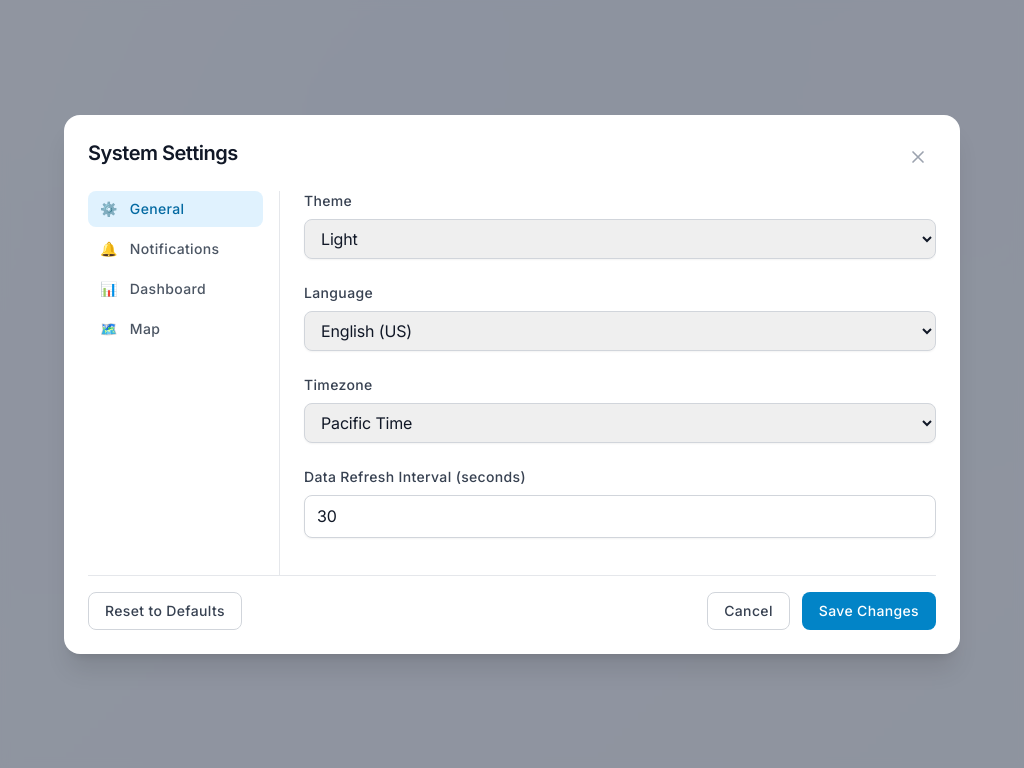
Test case: SettingsPanel › switches to notifications tab when clicked
Click the button "🔔 Notifications": point(176, 248) [88,230,263,266]
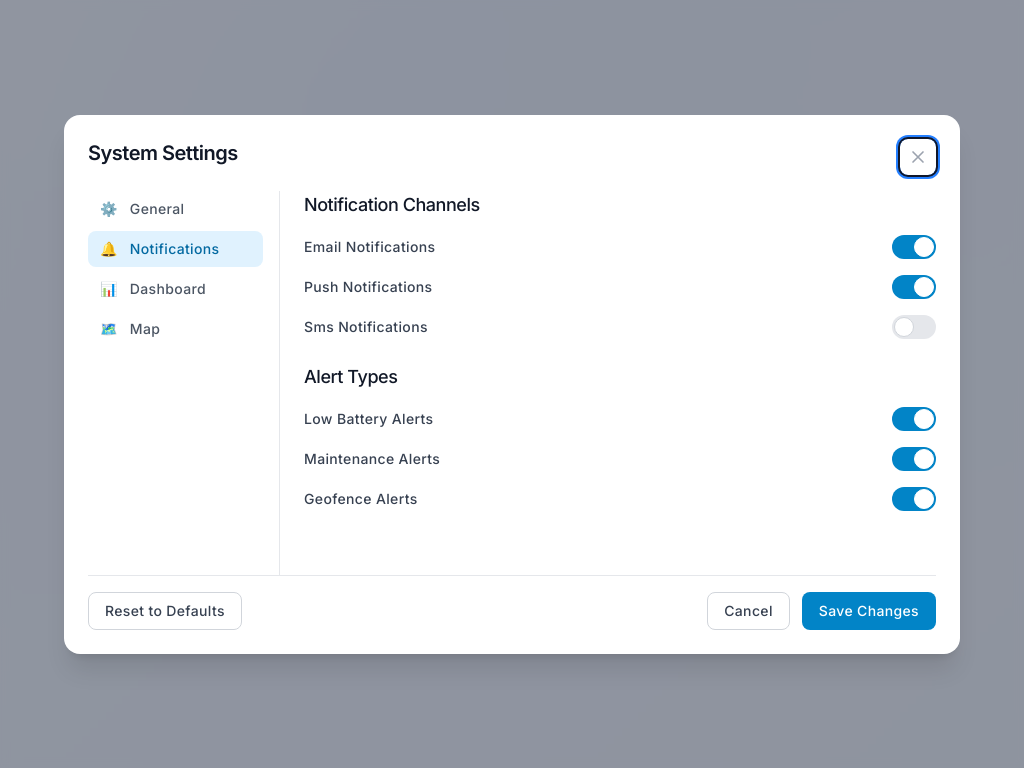
expect the heading "Notification Channels" is shown: met, box [304,194,480,214]
expect the heading "Alert Types" is shown: met, box [304,366,398,386]
expect the text "email Notifications" is shown: met, box [304,236,435,256]
